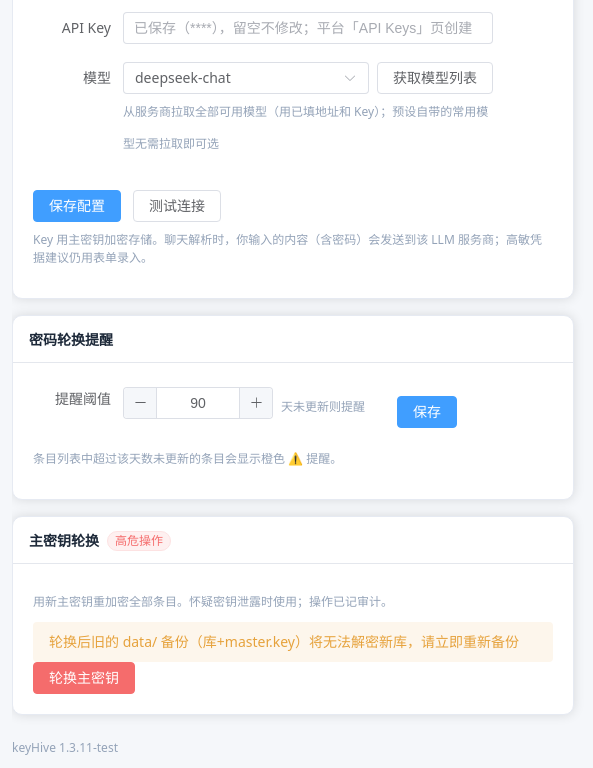
Test: Settings.vue › 主密钥轮换：确认后 POST /rotate-key 并展示结果
(page scrolled)
Step 1. Click the button "轮换主密钥" → [84, 678], box 33,662 -> 135,694
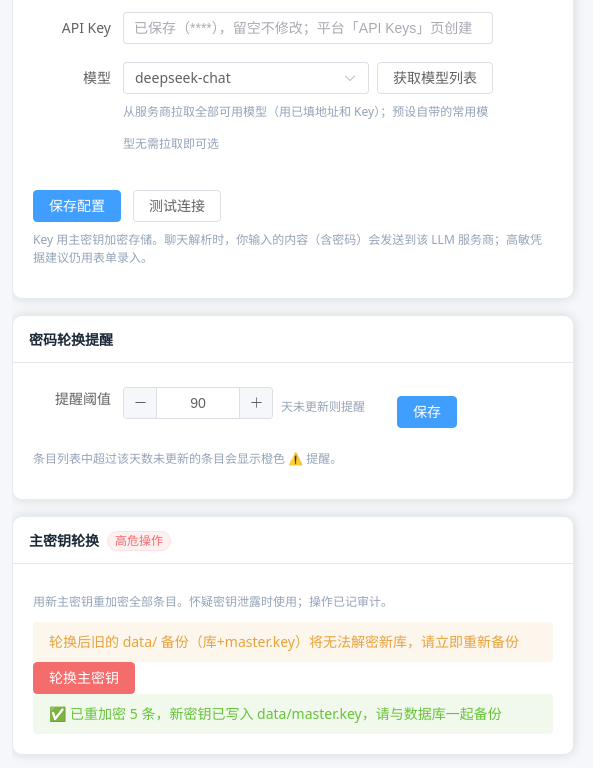
Result: the text "已重加密 5 条" is shown at 49,704 -> 502,723
